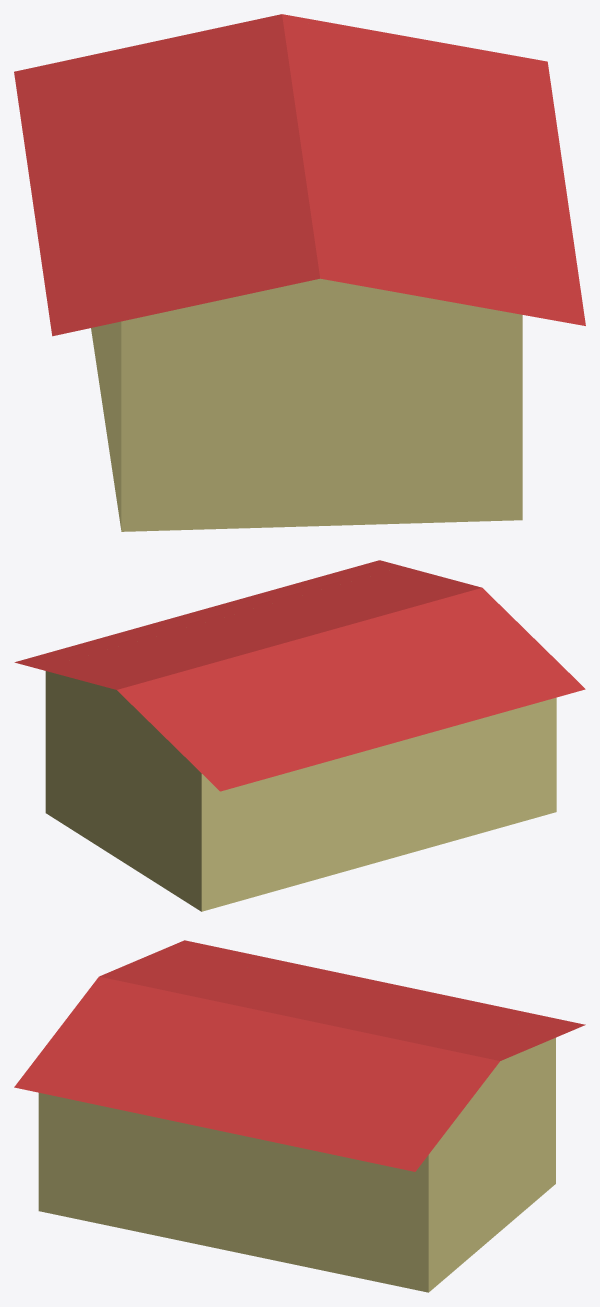
3 views of the same model, one above another, from view 1: azimuth 30°, elevation 25°; view 2: azimuth 150°, elevation 25°; view 3: azimuth 270°, elevation 25° (orthographic). The views are drawn at different scales.
Bounding box in the file's own units: 31.47 × 33.2 × 11.44.
